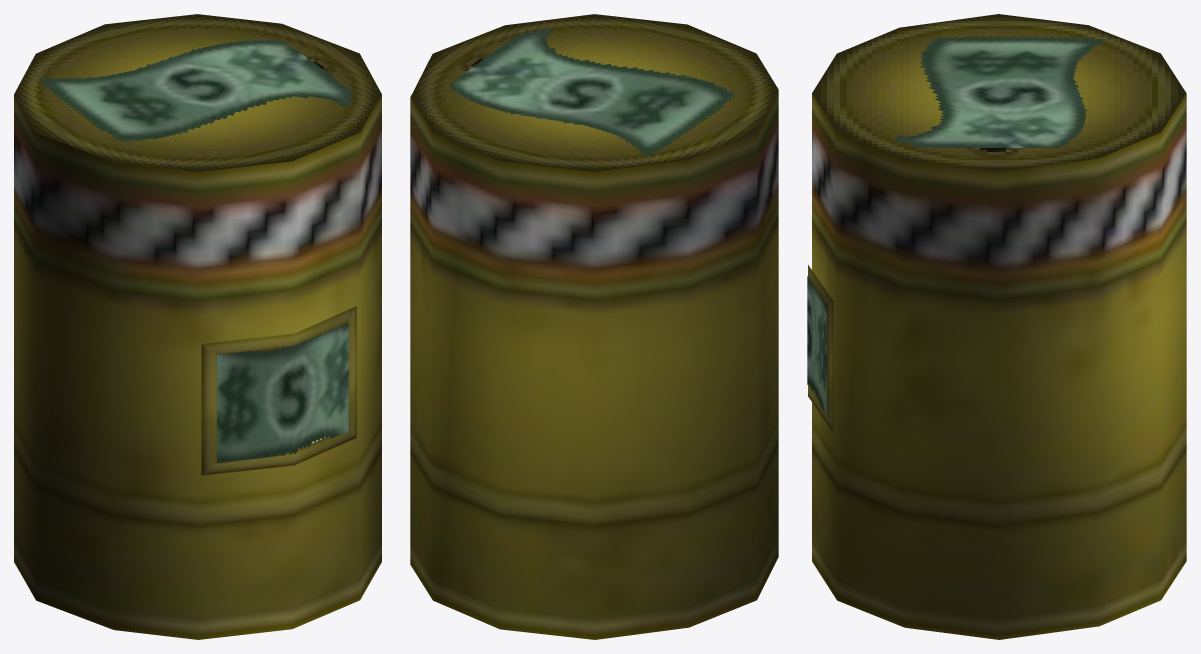
The model's file is gag_tank.glb.
3 renders of one model, left to right at view 1: azimuth 30°, elevation 25°; view 2: azimuth 150°, elevation 25°; view 3: azimuth 270°, elevation 25°, orthographic.
Parts seen in each view (by area): view 1: gagTank1, gagMoneyFive, gagMoneyFiveFront, gagLableFrame, gagMoneyTen; view 2: gagTank1, gagMoneyFive, gagMoneyTen; view 3: gagTank1, gagMoneyFive, gagMoneyFiveFront, gagLableFrame, gagMoneyTen.
Boxes of the visible parts, x1,y1,x2,y2 form: gagTank1: (14,14,381,639); gagMoneyFive: (43,40,350,140); gagMoneyFiveFront: (217,323,348,463); gagLableFrame: (201,306,356,475); gagMoneyTen: (39,42,354,141); gagTank1: (410,14,778,639); gagMoneyFive: (448,31,732,154); gagMoneyTen: (477,28,734,155); gagTank1: (812,14,1186,639); gagMoneyFive: (900,37,1103,147); gagMoneyFiveFront: (807,276,826,415); gagLableFrame: (808,265,833,432); gagMoneyTen: (892,36,1103,147).
Bounding box in the file's own units: 6 × 8.31 × 6.08.
5 materials, 4 textured.
